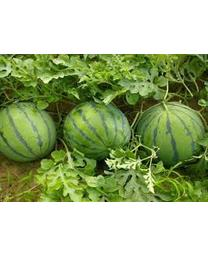watermelon: (139, 103, 207, 171), (63, 103, 132, 161), (1, 103, 57, 160)
